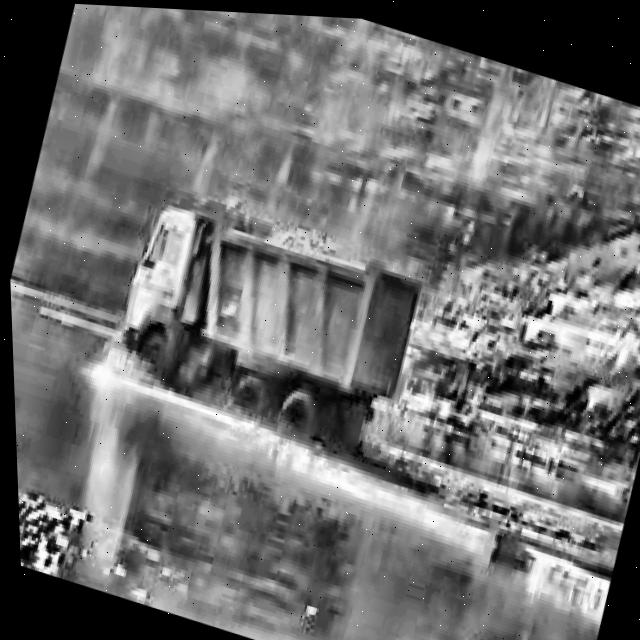dump_truck: (93, 183, 424, 463)
